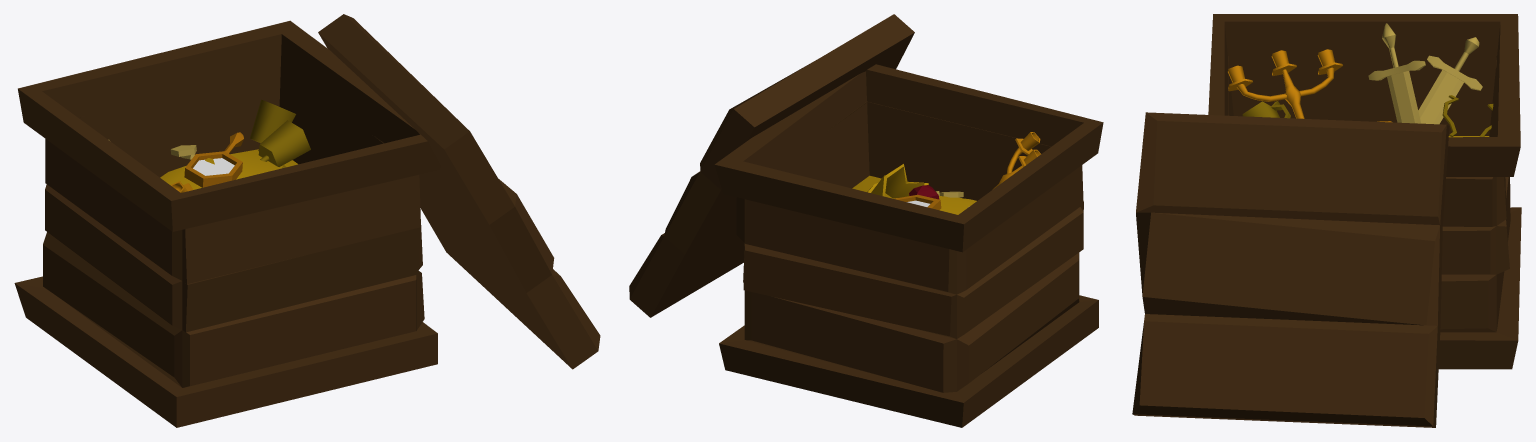
File: crate_open.fbx
3 renders of one model, left to right at view 1: azimuth 30°, elevation 25°; view 2: azimuth 150°, elevation 25°; view 3: azimuth 270°, elevation 25°, orthographic. The views are drawn at different scales.
Visible parts, largest first — view 1: crate_open; view 2: crate_open; view 3: crate_open.
Boxes of the visible parts, left/top/right/bottom form: crate_open: left=14, top=14, right=600, bottom=427; crate_open: left=629, top=14, right=1103, bottom=427; crate_open: left=1132, top=14, right=1521, bottom=427.
Bounding box in the file's own units: 76.43 × 45.14 × 62.18.
